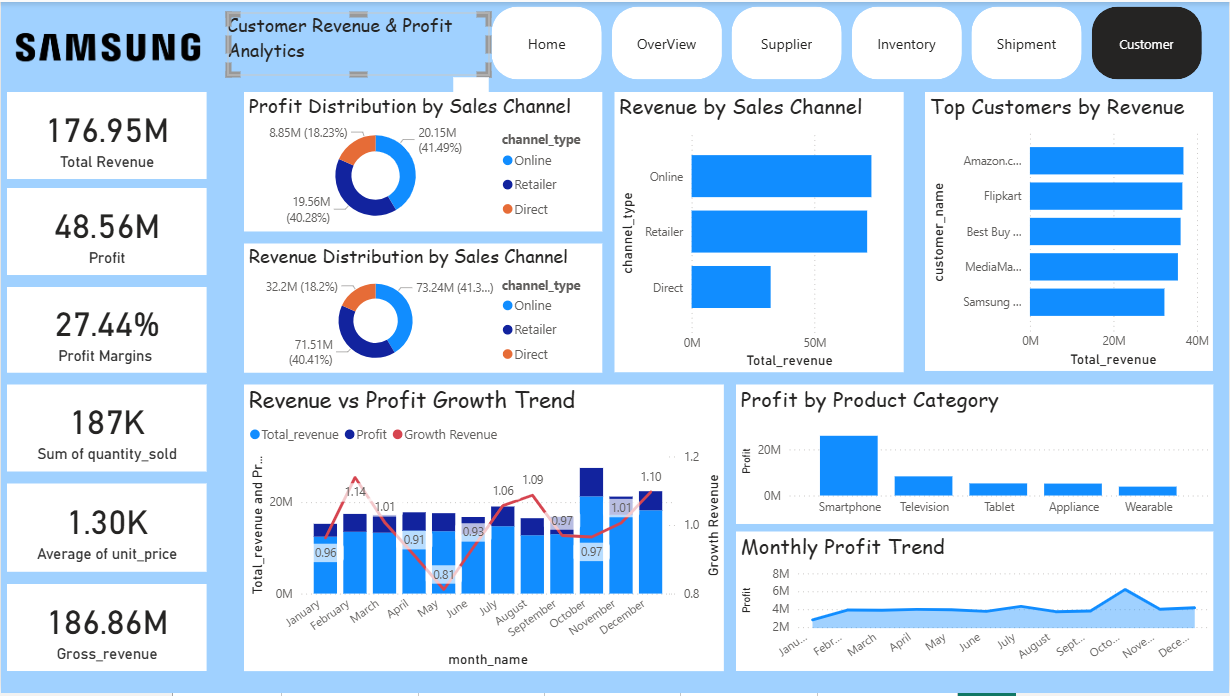

Layout of this report page (visuals, bound fields, positions):
{"tool":"powerbi","page":{"name":"Customer","canvas":[1280,720],"ordinal":5},"visuals":[{"type":"shape","title":"Customers","box":[236,10.9,273.5,65.6],"z":0},{"type":"image","box":[0,0,214.1,93.8],"z":1000},{"type":"card","fields":{"Values":["Measure_Table.Total_revenue"]},"box":[6.3,93.8,207.9,90.7],"z":2000},{"type":"card","fields":{"Values":["Measure_Table.profit"]},"box":[6.3,193.8,207.9,90.7],"z":3000},{"type":"card","fields":{"Values":["Measure_Table.Profit_margins %"]},"box":[6.3,297,207.9,89.1],"z":4000},{"type":"card","fields":{"Values":["Sum(fact_sales.quantity_sold)"]},"box":[6.3,398.6,207.9,90.7],"z":5000},{"type":"card","fields":{"Values":["Avg(fact_sales.unit_price)"]},"box":[6.3,501.7,207.9,92.2],"z":6000},{"type":"card","fields":{"Values":["Measure_Table.Gross_revenue"]},"box":[6.3,606.4,207.9,90.7],"z":7000},{"type":"barChart","title":"Total_revenue ","fields":{"Category":["customer.customer_name"],"Y":["Measure_Table.Total_revenue"]},"box":[962.8,93.8,300.1,290.7],"z":8000},{"type":"donutChart","title":"Total_revenue","fields":{"Y":["Measure_Table.Total_revenue"],"Category":["customer.channel_type"]},"box":[253.2,251.6,373.6,134.4],"z":9000},{"type":"donutChart","title":"Profit ","fields":{"Y":["Measure_Table.Profit"],"Category":["customer.channel_type"]},"box":[253.2,93.8,373.6,145.4],"z":10000},{"type":"stackedAreaChart","title":"Profit ","fields":{"Category":["date.month_name"],"Y":["Measure_Table.Profit"]},"box":[765.9,551.7,497,145.4],"z":11000},{"type":"clusteredBarChart","title":"Total_revenue","fields":{"Category":["customer.channel_type"],"Y":["Measure_Table.Total_revenue"]},"box":[639.3,93.8,301.7,292.3],"z":12000},{"type":"lineStackedColumnComboChart","title":"Total_revenue ","fields":{"Category":["date.month_name"],"Y":["Measure_Table.Total_revenue","Measure_Table.Profit"],"Y2":["Measure_Table.Growth Revenue"]},"box":[253.2,398.6,500.2,298.5],"z":13000},{"type":"lineStackedColumnComboChart","title":"Profit ","fields":{"Category":["product.category"],"Y":["Measure_Table.Profit"]},"box":[765.9,398.6,497,145.4],"z":14000},{"type":"pageNavigator","box":[511.1,4.7,745.5,76.6],"z":15000}]}

Visuals, with their boxes in screenshot pixels (x1, y1, x2, y2), scaled from the page's 1280x720 canvas onto the 1230x696 screenshot:
"Customers" shape: locate(227, 11, 490, 74)
image: locate(0, 0, 206, 91)
card - Measure_Table.Total_revenue: locate(6, 91, 206, 178)
card - Measure_Table.profit: locate(6, 187, 206, 275)
card - Measure_Table.Profit_margins %: locate(6, 287, 206, 373)
card - Sum(fact_sales.quantity_sold): locate(6, 385, 206, 473)
card - Avg(fact_sales.unit_price): locate(6, 485, 206, 574)
card - Measure_Table.Gross_revenue: locate(6, 586, 206, 674)
"Total_revenue " barChart: locate(925, 91, 1214, 372)
"Total_revenue" donutChart: locate(243, 243, 602, 373)
"Profit " donutChart: locate(243, 91, 602, 231)
"Profit " stackedAreaChart: locate(736, 533, 1214, 674)
"Total_revenue" clusteredBarChart: locate(614, 91, 904, 373)
"Total_revenue " lineStackedColumnComboChart: locate(243, 385, 724, 674)
"Profit " lineStackedColumnComboChart: locate(736, 385, 1214, 526)
pageNavigator: locate(491, 5, 1208, 79)
